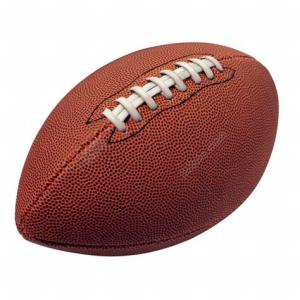Rugby: (13, 41, 280, 257)
